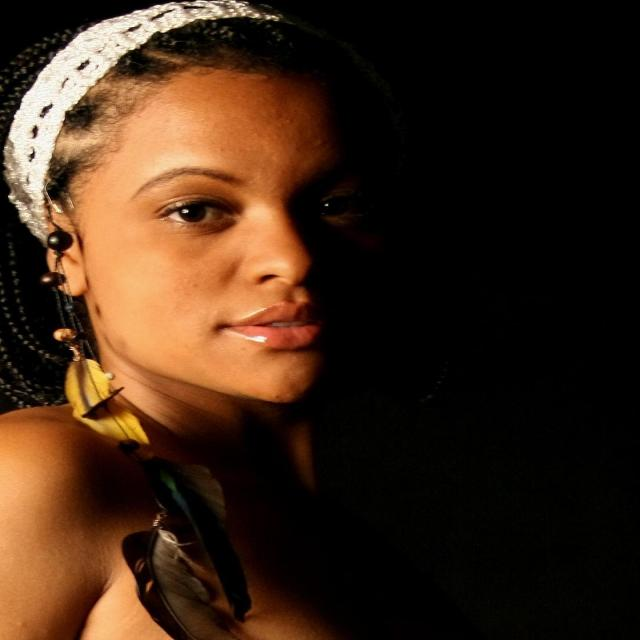no-glass: (154, 185, 369, 225)
